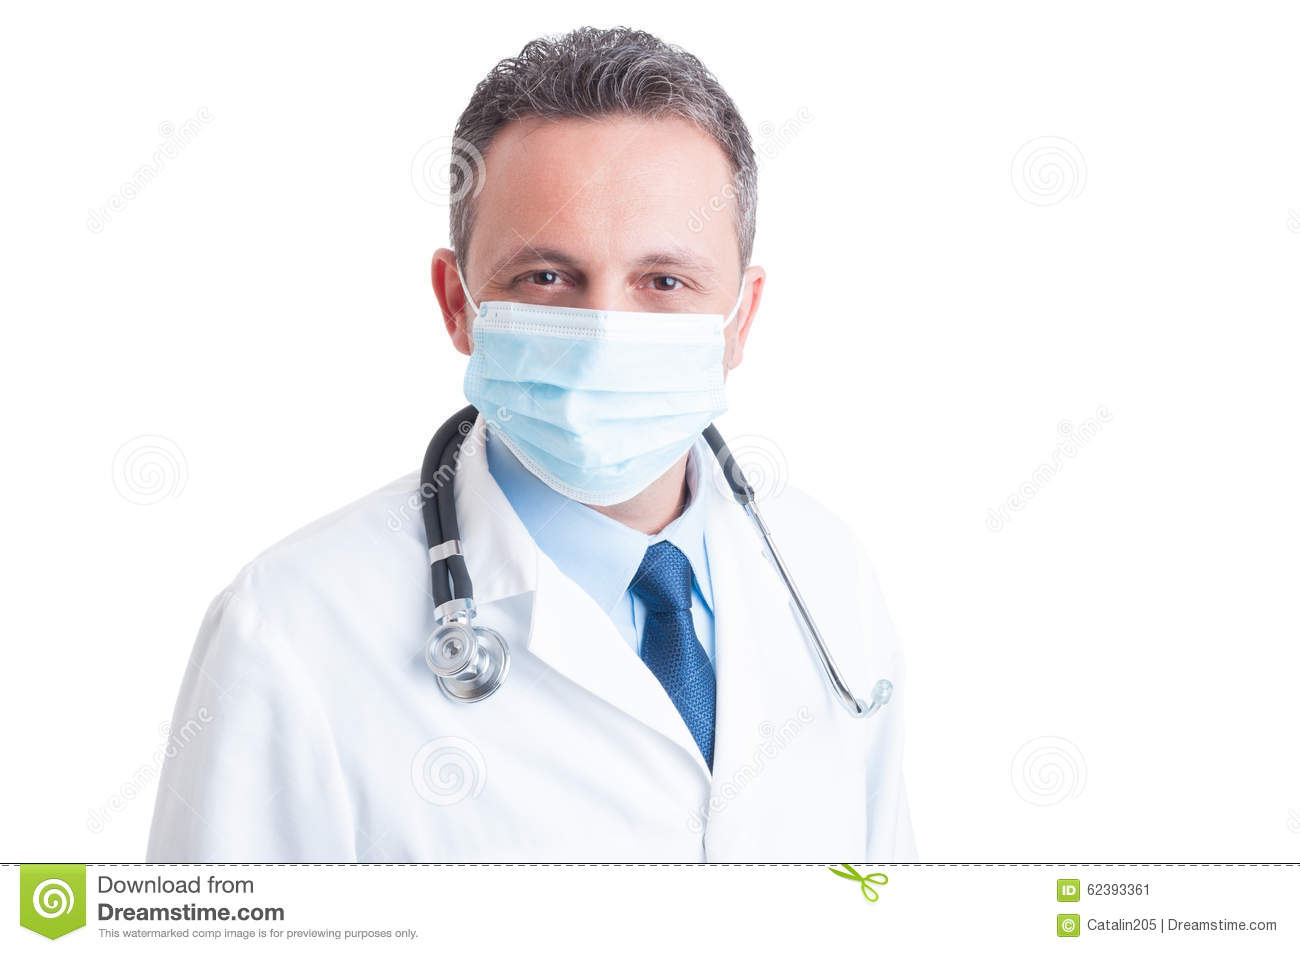mask: (463, 284, 735, 497)
